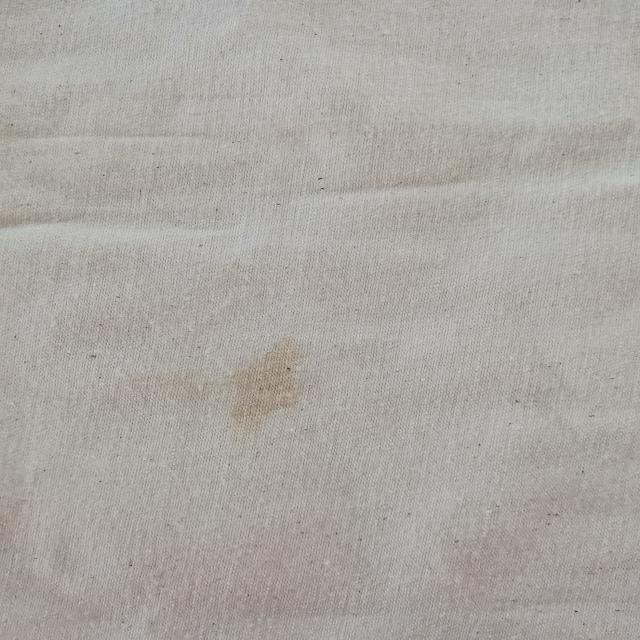taaaches: (208, 342, 332, 437)
